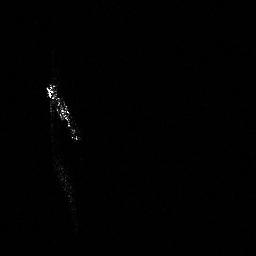ship: (46, 83, 78, 141)
